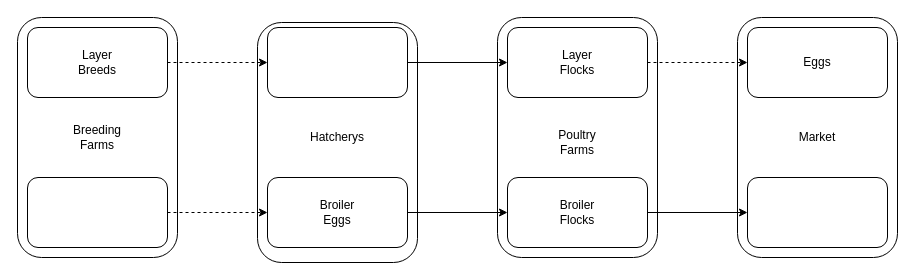
Some shapes in this 915 by 280 pixel diagram are drawn without their labels. Here are the shapes that lost their labels. From the top down, the centre of each, then its label:
(x=337, y=62): Layer Eggs
(x=97, y=212): Broiler Breeds
(x=817, y=212): Poultry
